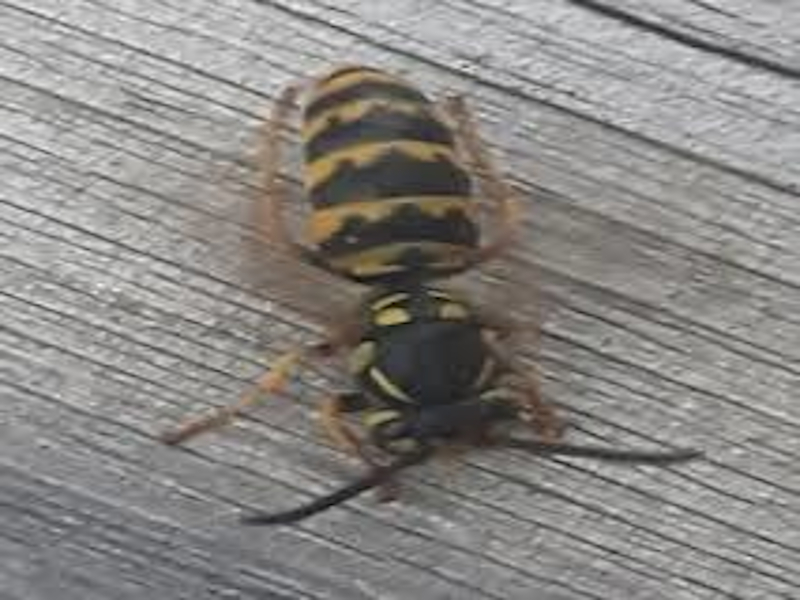chax: (168, 41, 695, 530)
